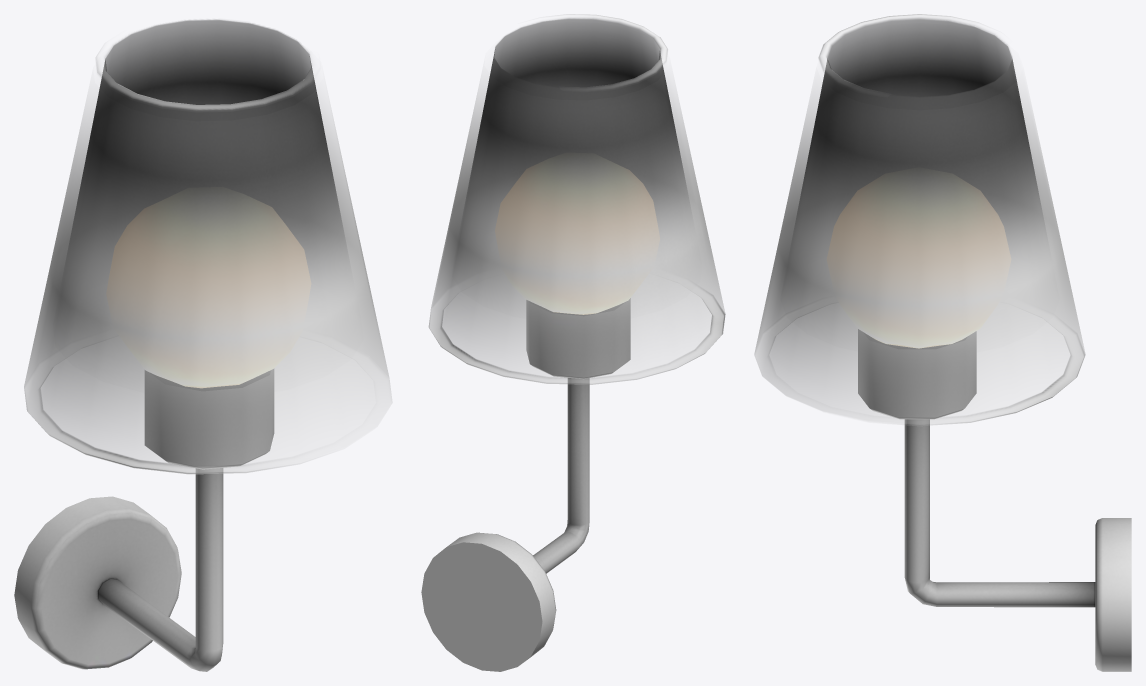
Rendered from wall-lamp-1.glb.
3 renders of one model, left to right at view 1: azimuth 30°, elevation 25°; view 2: azimuth 150°, elevation 25°; view 3: azimuth 270°, elevation 25°, orthographic. The views are drawn at different scales.
Parts seen in each view (by area): view 1: cover, Base.003, Lamp.003; view 2: cover, Base.003, Lamp.003; view 3: cover, Base.003, Lamp.003.
Boxes of the visible parts, <box> form: cover: <box>24,19,392,474</box>; Base.003: <box>14,369,274,671</box>; Lamp.003: <box>107,203,310,387</box>; cover: <box>428,14,725,384</box>; Base.003: <box>421,299,630,671</box>; Lamp.003: <box>495,166,659,314</box>; cover: <box>754,14,1085,425</box>; Base.003: <box>858,329,1131,671</box>; Lamp.003: <box>827,183,1010,348</box>.
Size of the model in its own units: 0.2177 by 0.4416 by 0.2479.
1 material, 1 textured.
